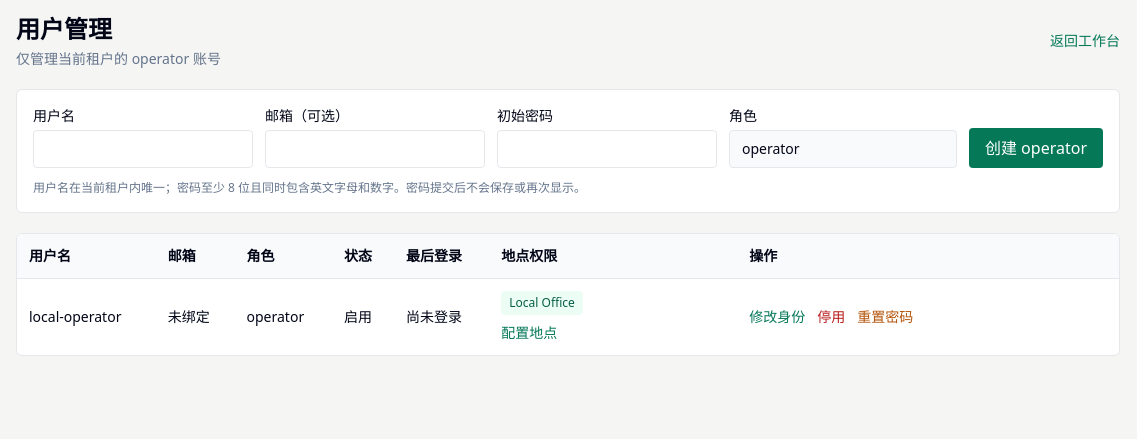
Test: users page › creates an operator with username and no email
expect the text "local-operator" is shown: met, box [17,278,156,355]
Type "New.Operator" into the field with test id "create-user-username".
click(143, 149); type("New.Operator")  # box [33,130,253,168]
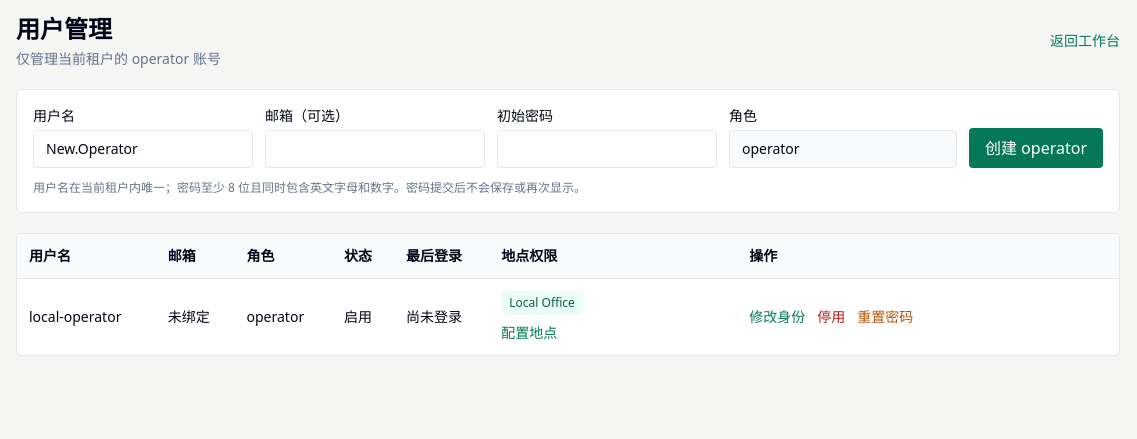
Type "abc12345" into the password field with test id "create-user-password".
click(607, 149); type("abc12345")  # box [497,130,717,168]
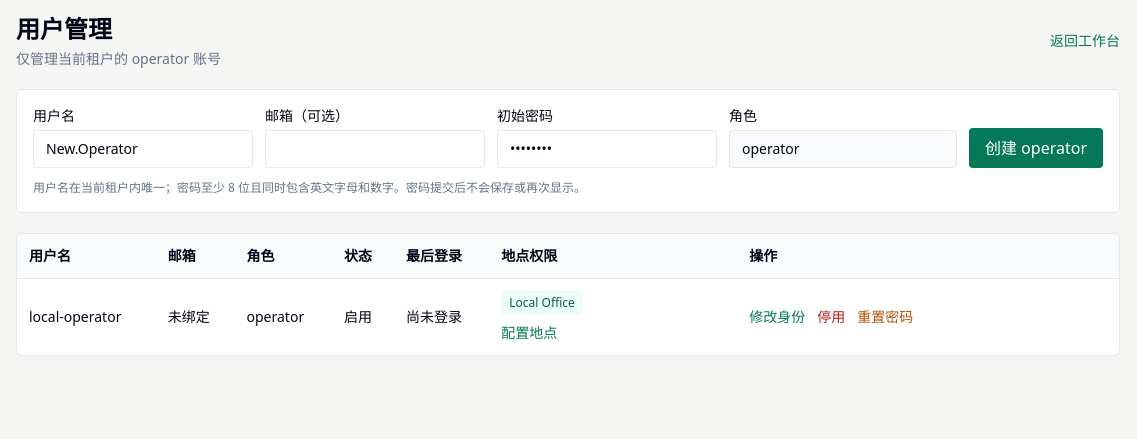
Click the button with test id "create-user-submit".
click(1036, 148)  # box [969,128,1103,168]
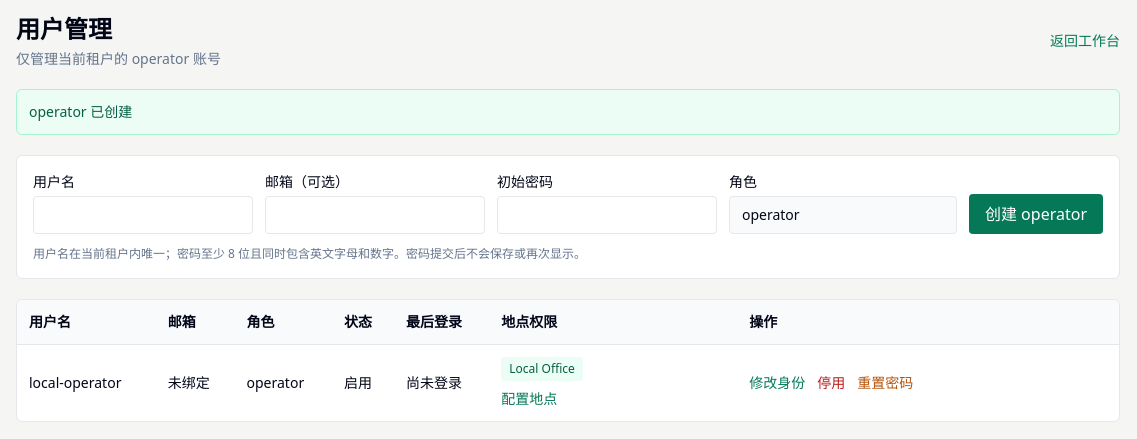
expect the message "operator 已创建" is shown: met, box [16,89,1120,135]
